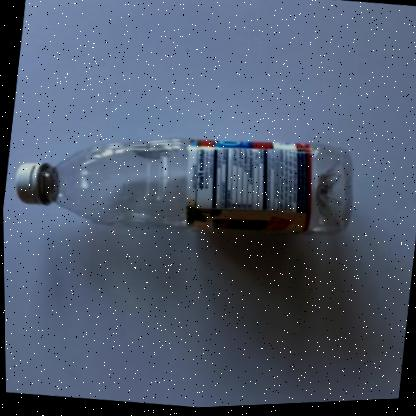Plastic: (14, 140, 349, 238)
